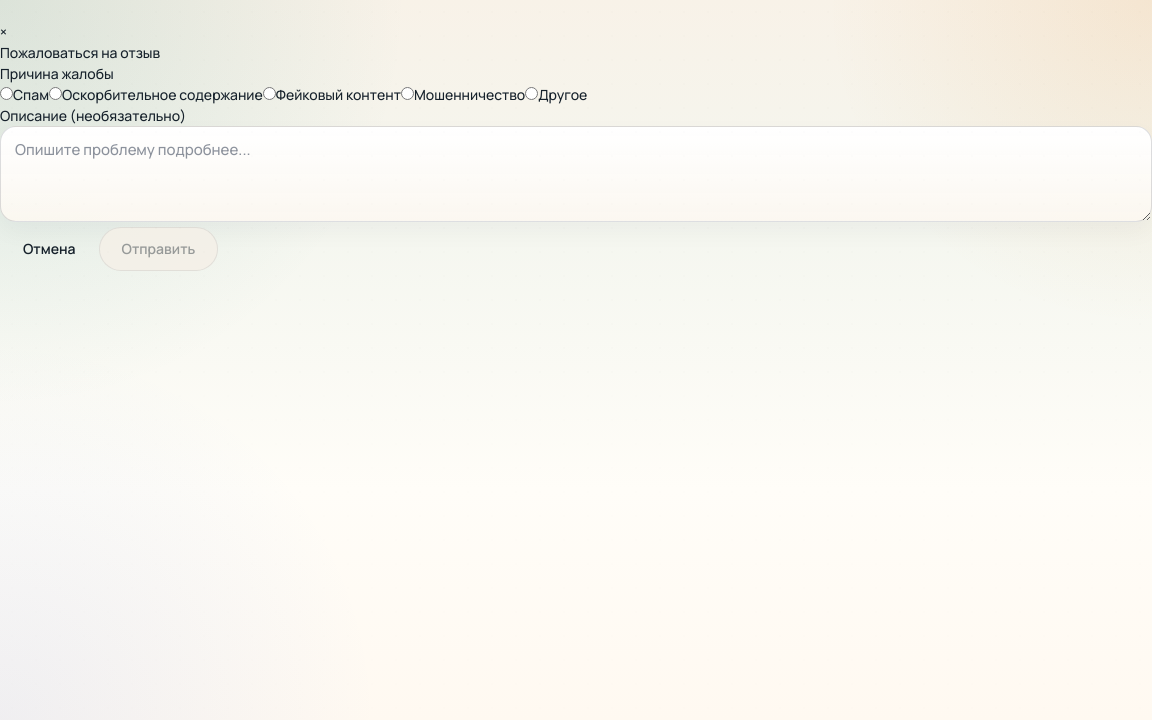
Scenario: ReportModal › enables submit when reason is selected
The width and height of the screenshot is (1152, 720).
What coordinates should you click on to do the following:
click the text "Спам"
I would click on:
 (31, 94)
Its box is [13, 85, 49, 104].
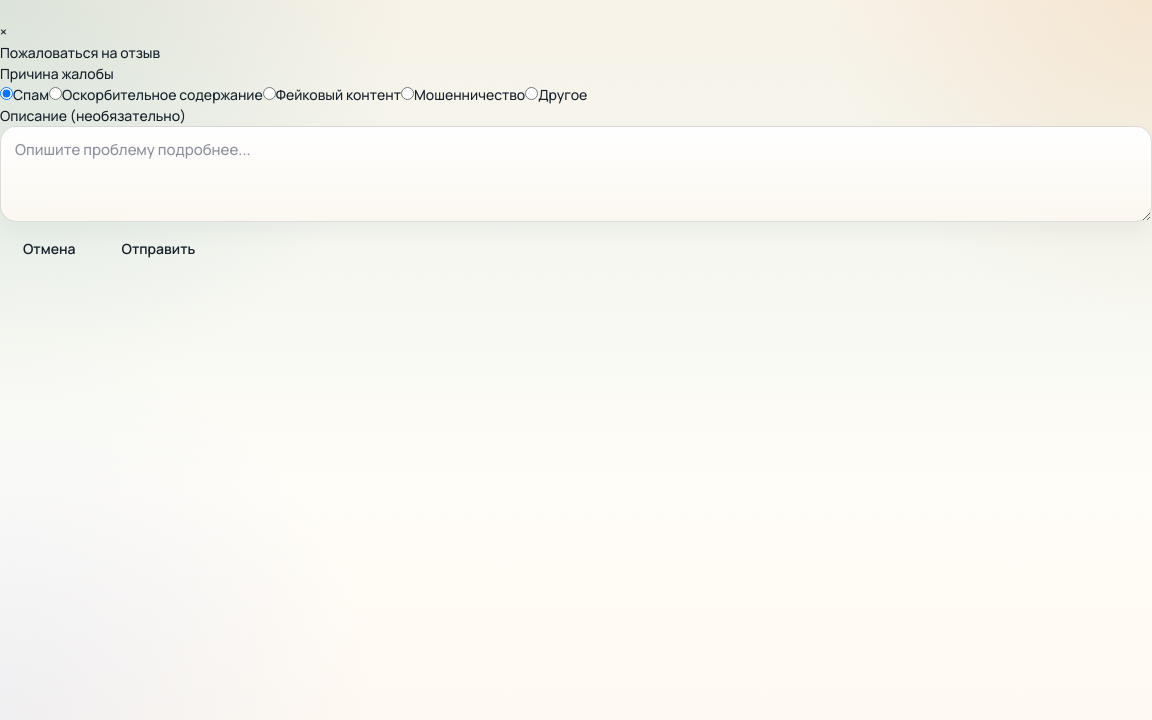
Result: the button "Отправить" is enabled at [99, 227, 218, 271]
